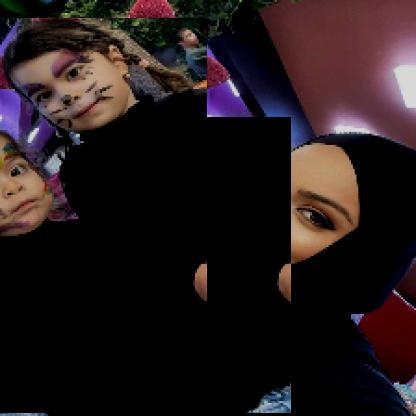child: (1, 118, 293, 415), (1, 20, 209, 304)
